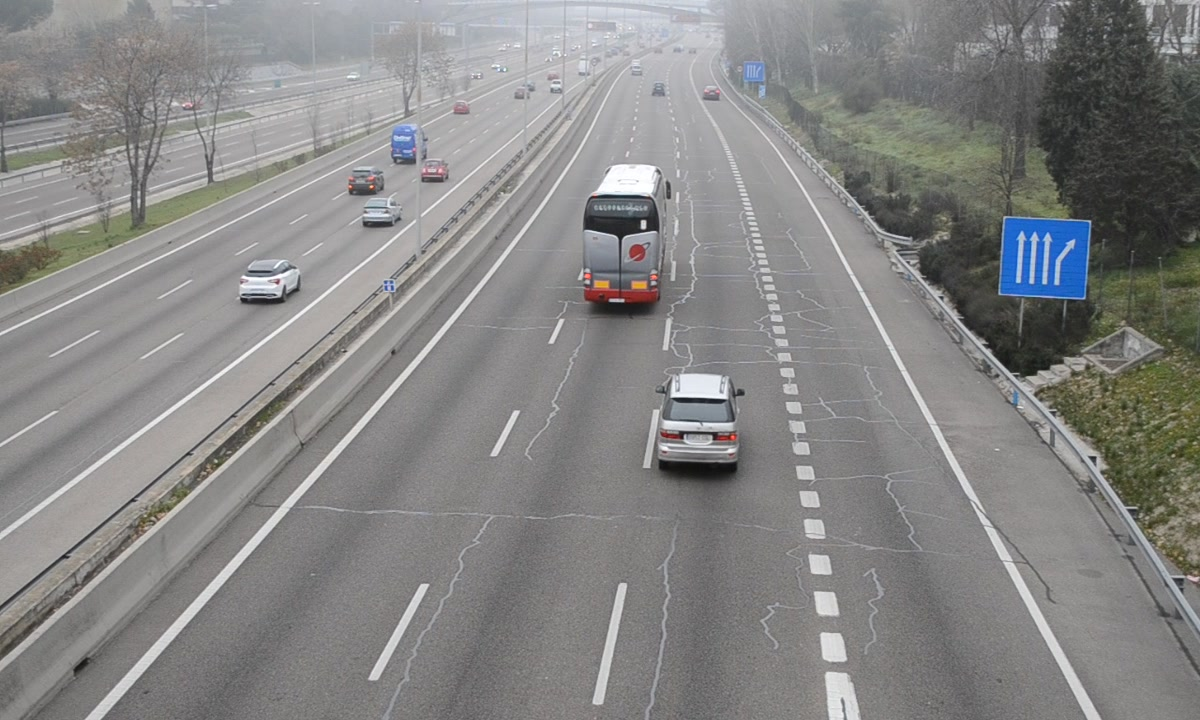bus: (583, 165, 669, 308)
car: (655, 374, 740, 470)
